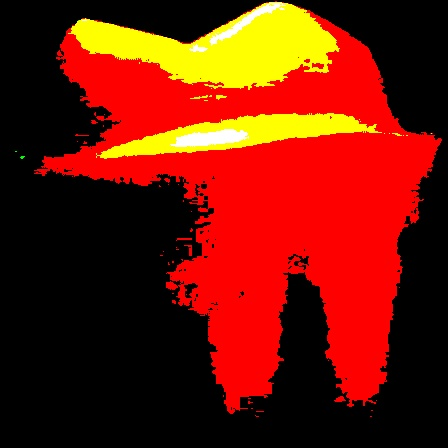coin_1: (41, 131, 61, 151)
coin_2: (51, 62, 71, 82)
coin_3: (406, 121, 426, 141)
coin_4: (378, 58, 398, 78)
